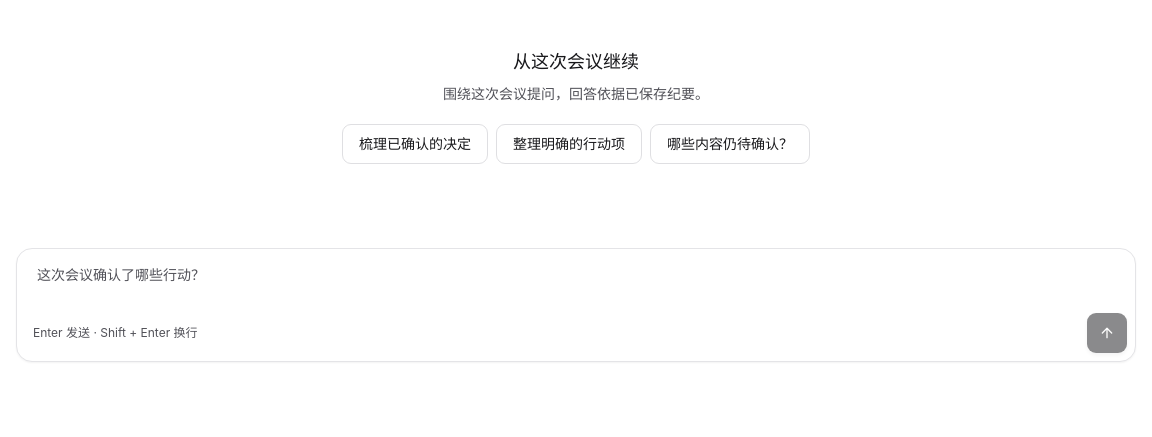
Test: keeps a failed question and submits it again without losing the conversation
Type "会议确认了什么？" into the text box named "会议问题" at (576,285), box [25,257,1127,313]
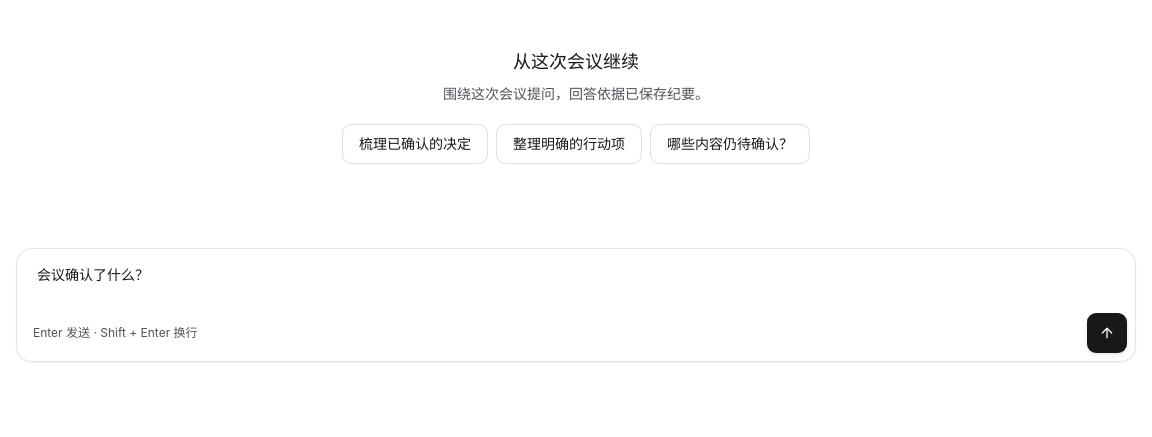
Click the button named "发送" at (1107,333), box [1087,313,1127,353]
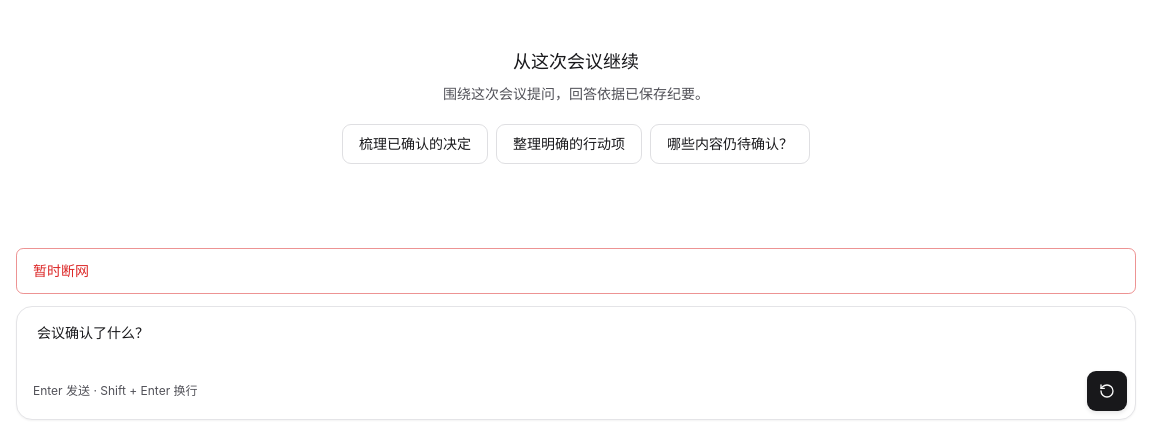
Check: the text "暂时断网" is shown, box [33,262,89,279]
Click the button named "重试提问" at (1107,391), box [1087,371,1127,411]
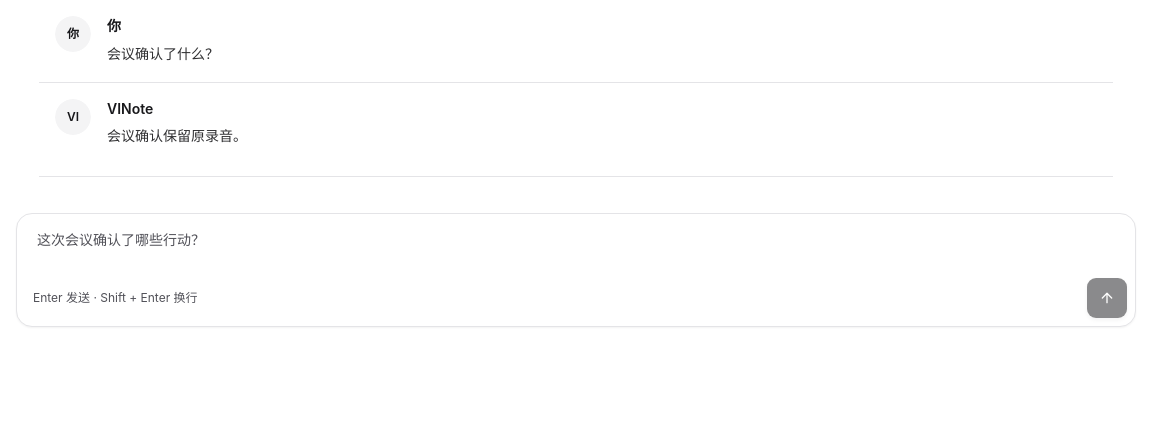
Check: the text "会议确认保留原录音。" is shown, box [107,127,247,144]
Check: the text box named "会议问题" is empty, box [25,222,1127,278]
